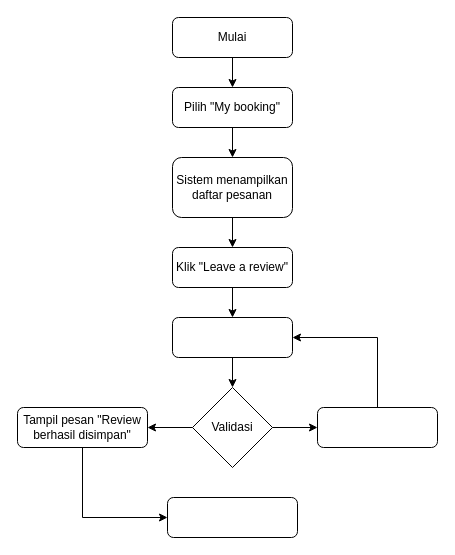
Some shapes in this 455 by 555 pixel diagram are drawn without their labels. The box of each missing label's shape, as (x1, y1, x2, y2) in pixels:
End: (166, 496, 298, 538)
Isi form review: (172, 316, 292, 358)
Tampil pesan error: (316, 406, 438, 448)
